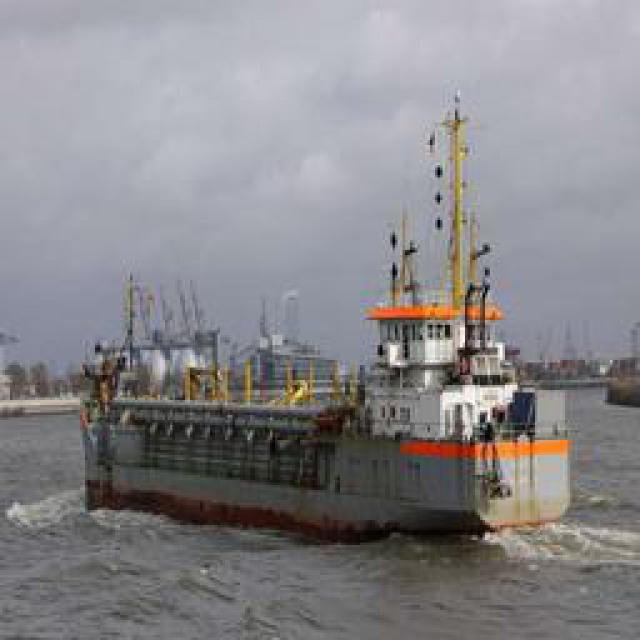Ship: (72, 68, 602, 543)
